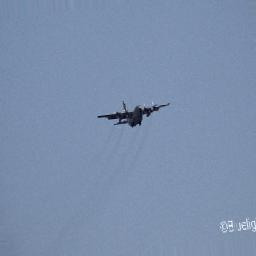Airplane: (95, 101, 171, 129)
